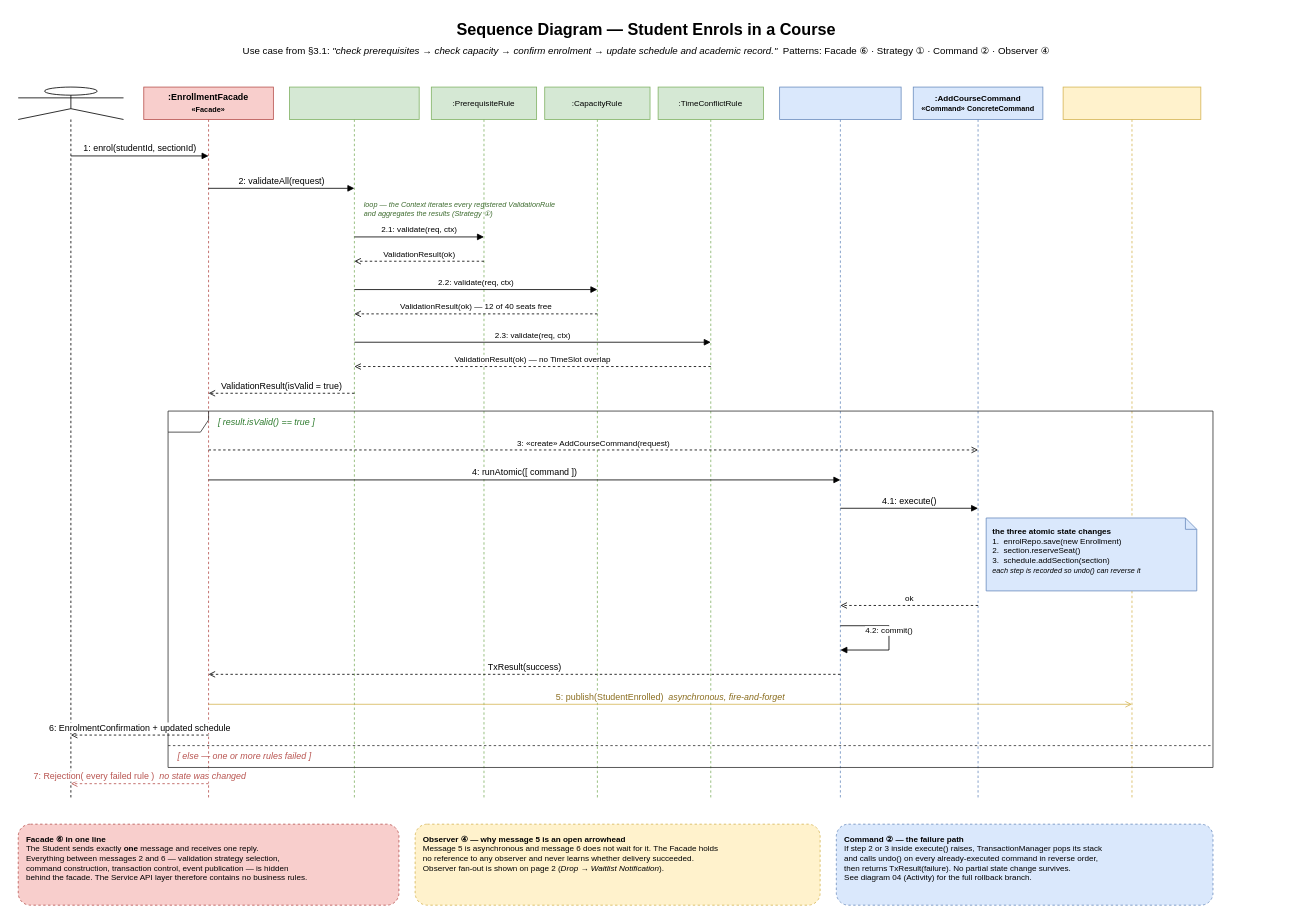
The diagram is 1291 pixels wide and 919 high, and some of its shapes have lost their labels. The box of each missing label's shape, as (x1, y1, x2, y2) in pixels:
:EnrollmentValidator «Strategy» Context: (289, 86, 419, 800)
:NotificationPublisher «Observer» Subject: (1062, 86, 1201, 800)
:Student: (17, 86, 124, 800)
:TransactionManager «Command» Invoker: (779, 86, 901, 800)
alt: (167, 410, 1213, 767)
